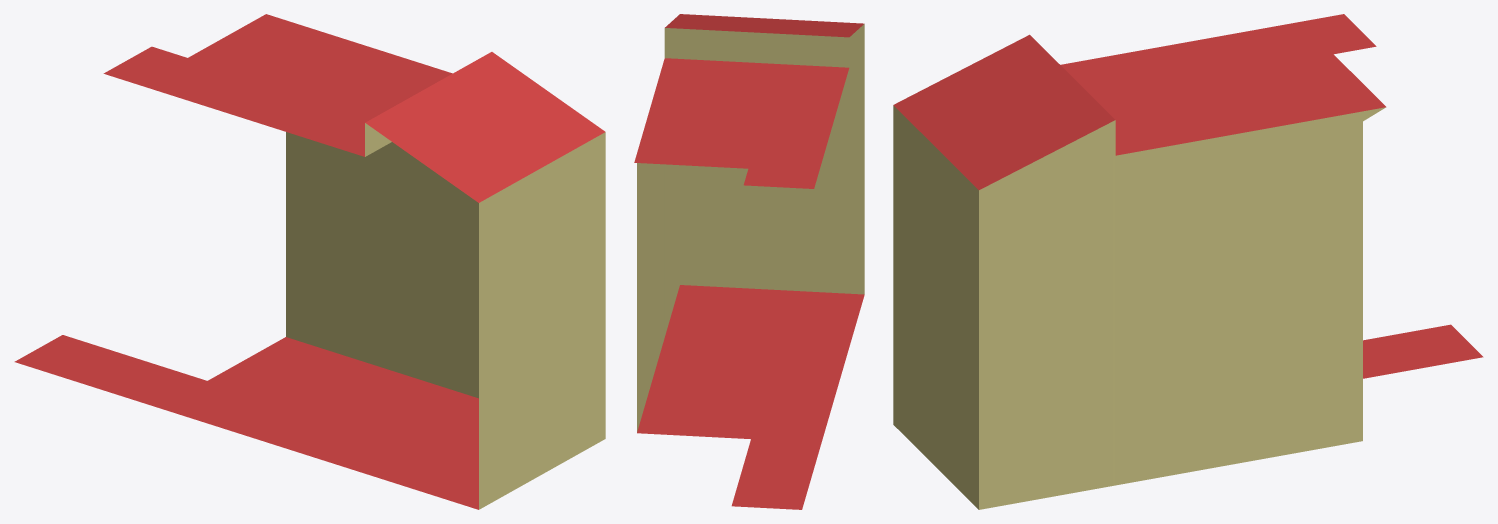
The picture shows the model from 3 angles, left to right: view 1: azimuth 30°, elevation 25°; view 2: azimuth 150°, elevation 25°; view 3: azimuth 270°, elevation 25°; orthographic projection. The views are drawn at different scales.
Size of the model in its own units: 8.63 by 11.61 by 7.93.
